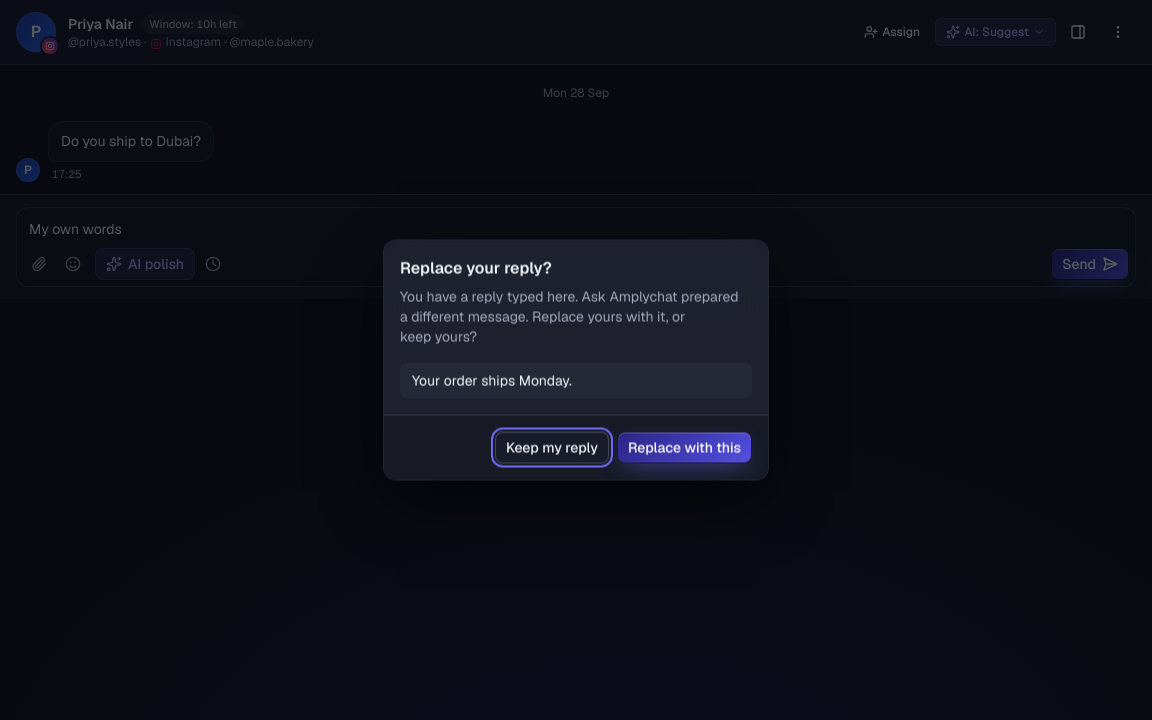
Test case: ThreadView: follow-up reminder link (F-18) › an Ask Amplychat card keeps a typed reply until the member says to replace it
This screenshot has width=1152, height=720.
expect the text with test id "replace-ask-text" reads "Your order ships Monday.": met, box [412,372,572,390]
expect the text box named "Reply to" holds "My own words": met, box [17,208,1135,248]
Click the button "Keep my reply" at [552, 448], box [495,432,609,464]
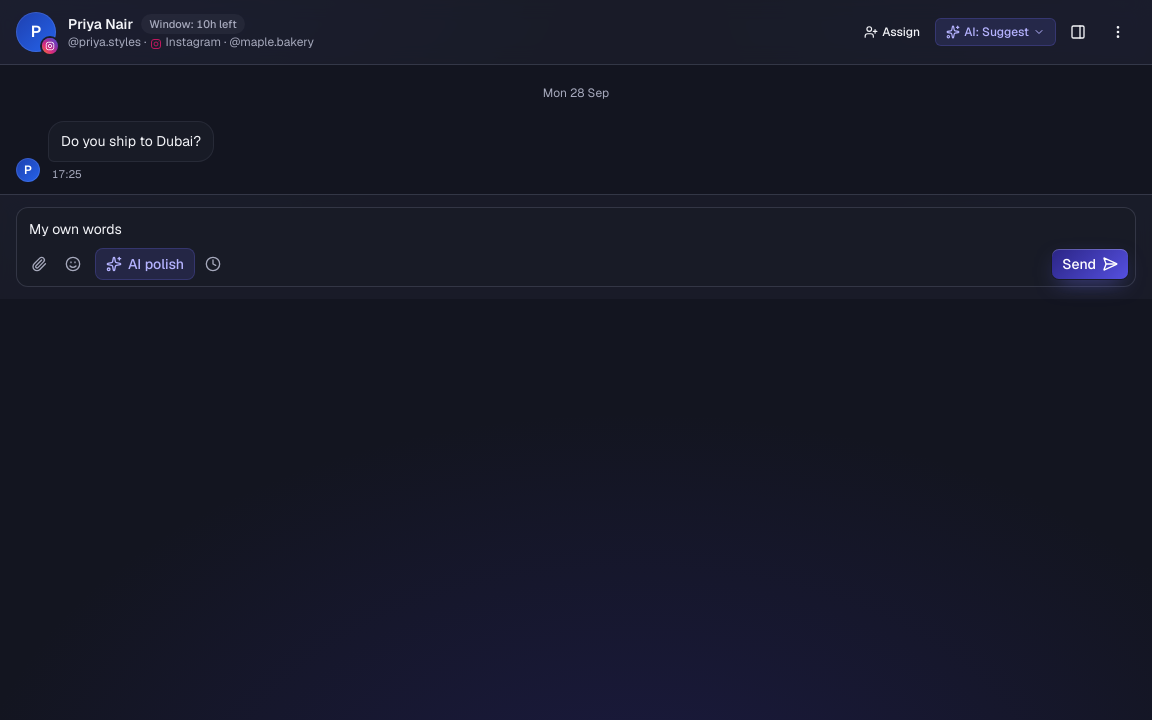
expect the text box named "Reply to" holds "My own words": met, box [17,208,1135,248]
expect the dialog is gone: met
